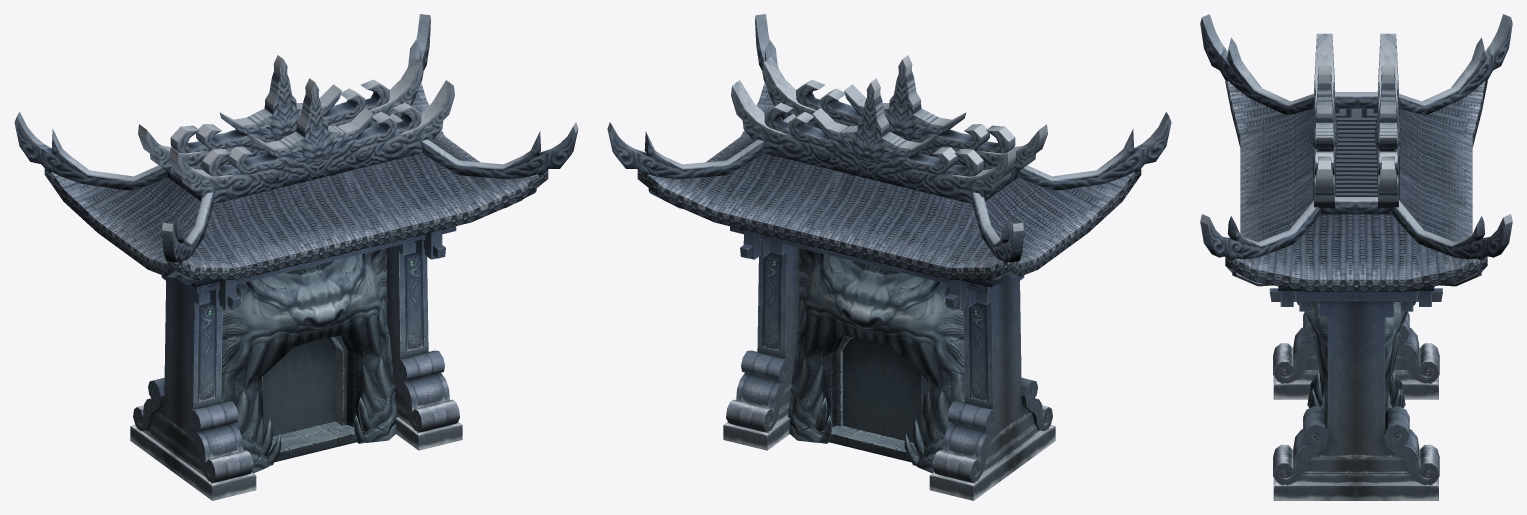
File: BingYingZhong_MenDong_1.FBX
3 views of the same model, side by side, from view 1: azimuth 30°, elevation 25°; view 2: azimuth 150°, elevation 25°; view 3: azimuth 270°, elevation 25° (orthographic).
Visible parts, largest first — view 1: BingYingZhong_Mendong_2, BingYingZhong_MenDong_1, BingYingZhong_MenDong_3; view 2: BingYingZhong_Mendong_2, BingYingZhong_MenDong_1, BingYingZhong_MenDong_3; view 3: BingYingZhong_Mendong_2, BingYingZhong_MenDong_1, BingYingZhong_MenDong_3.
Boxes of the visible parts, x1,y1,x2,y2 form: BingYingZhong_Mendong_2: [14, 14, 578, 500]; BingYingZhong_MenDong_1: [44, 82, 548, 279]; BingYingZhong_MenDong_3: [221, 248, 397, 473]; BingYingZhong_Mendong_2: [607, 14, 1171, 500]; BingYingZhong_MenDong_1: [637, 82, 1141, 280]; BingYingZhong_MenDong_3: [788, 248, 964, 473]; BingYingZhong_Mendong_2: [1200, 14, 1512, 500]; BingYingZhong_MenDong_1: [1225, 80, 1487, 291]; BingYingZhong_MenDong_3: [1297, 302, 1415, 413].
Size of the model in its own units: 1315 by 1126 by 849.
